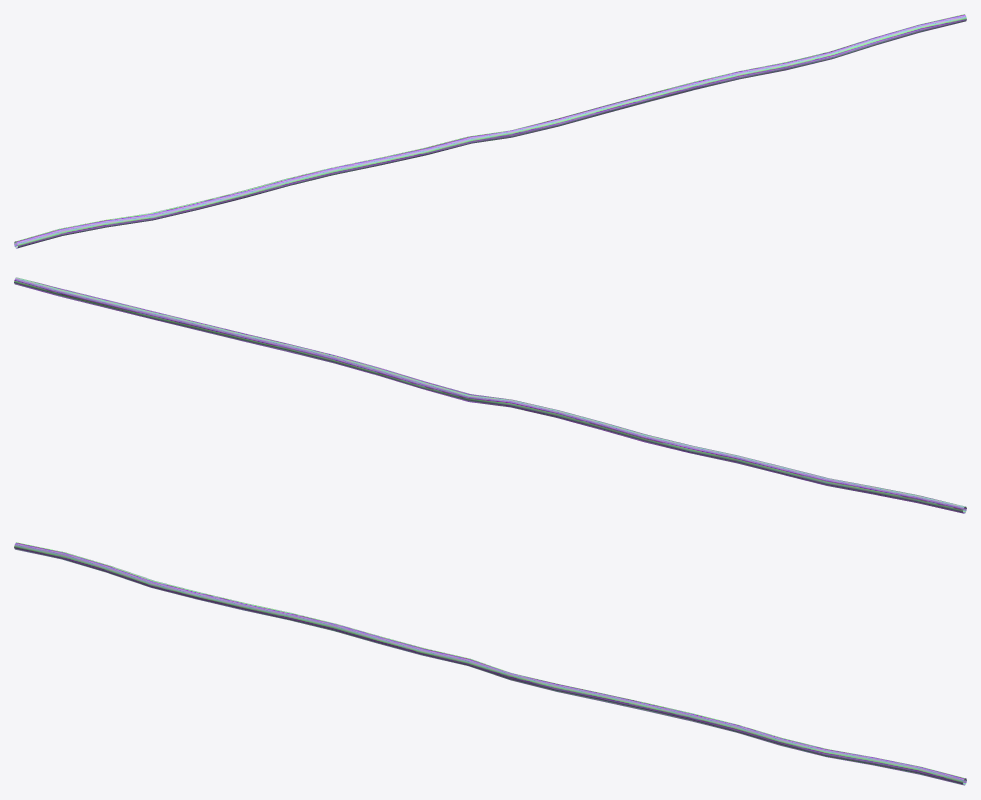
Rendered from LitCableD1.fbx.
The picture shows the model from 3 angles, top to bottom: view 1: azimuth 30°, elevation 25°; view 2: azimuth 150°, elevation 25°; view 3: azimuth 330°, elevation 25°; orthographic projection.
Parts seen in each view (by area): view 1: LitCableD1; view 2: LitCableD1; view 3: LitCableD1.
Part boxes in pixels (x1,y1,x2,y2): LitCableD1: (14, 14, 966, 248); LitCableD1: (14, 277, 966, 513); LitCableD1: (14, 542, 966, 785).
Size of the model in its own units: 500 by 8.5 by 7.63.
1 material, 1 textured.
